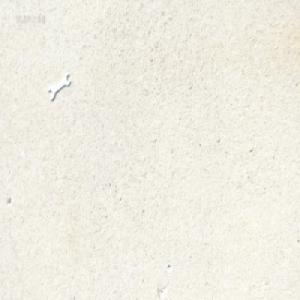Wrench: (47, 70, 70, 102)
